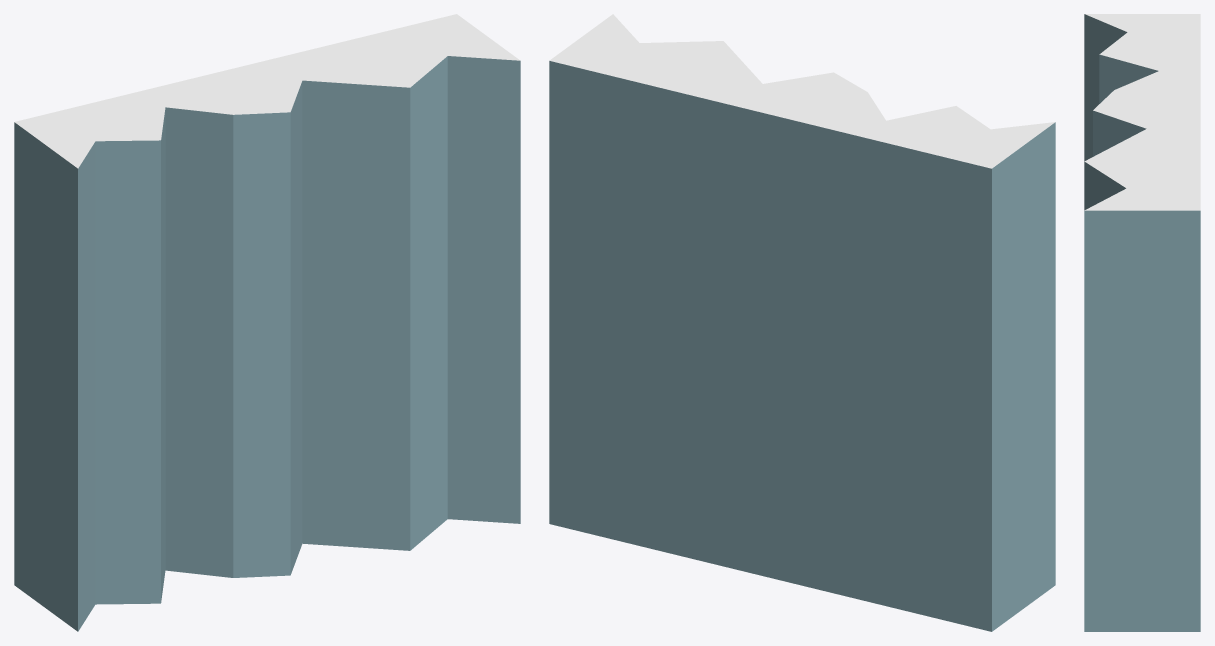
Rendered from Terrain_Tile_Ice_Snow_Cliff_Face_Straight_01.fbx.
3 views of the same model, side by side, from view 1: azimuth 30°, elevation 25°; view 2: azimuth 150°, elevation 25°; view 3: azimuth 270°, elevation 25° (orthographic). The views are drawn at different scales.
Parts seen in each view (by area): view 1: Terrain_Tile_Ice_Snow_Cliff_Face_Straight_01; view 2: Terrain_Tile_Ice_Snow_Cliff_Face_Straight_01; view 3: Terrain_Tile_Ice_Snow_Cliff_Face_Straight_01.
Boxes of the visible parts, left/top/right/bottom form: Terrain_Tile_Ice_Snow_Cliff_Face_Straight_01: left=14, top=14, right=520, bottom=631; Terrain_Tile_Ice_Snow_Cliff_Face_Straight_01: left=549, top=14, right=1055, bottom=631; Terrain_Tile_Ice_Snow_Cliff_Face_Straight_01: left=1084, top=14, right=1200, bottom=631.
Size of the model in its own units: 126 by 126 by 31.5.
